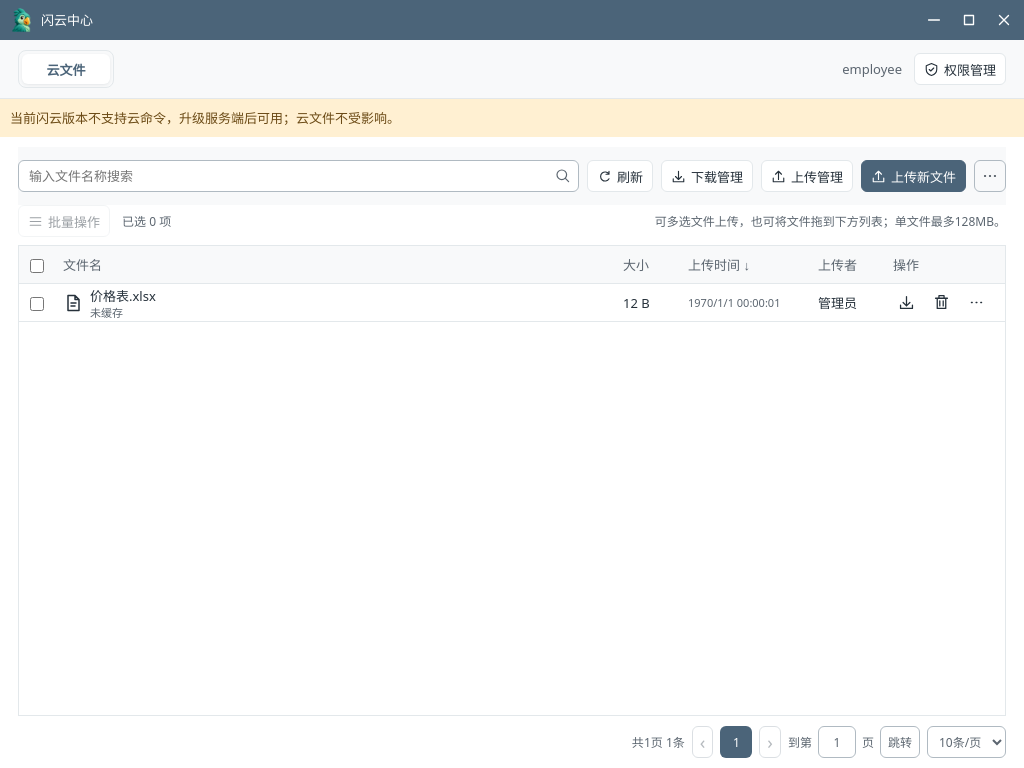
保存冲突读取最新授权，保留原草稿并提供采用最新
Expected: the text "价格表.xlsx" is shown, [90, 286, 156, 305]
Click the button "权限管理": (960,69) [914, 53, 1006, 85]
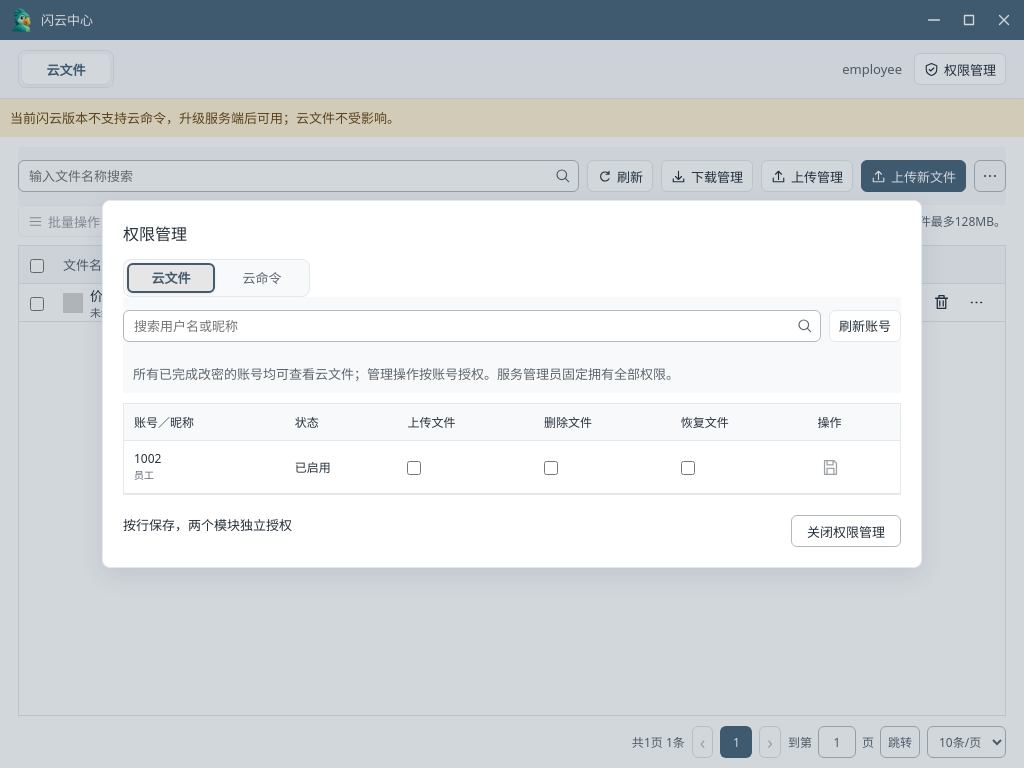
Click the checkbox named "1002的上传权限": (414,468) [407, 461, 421, 475]
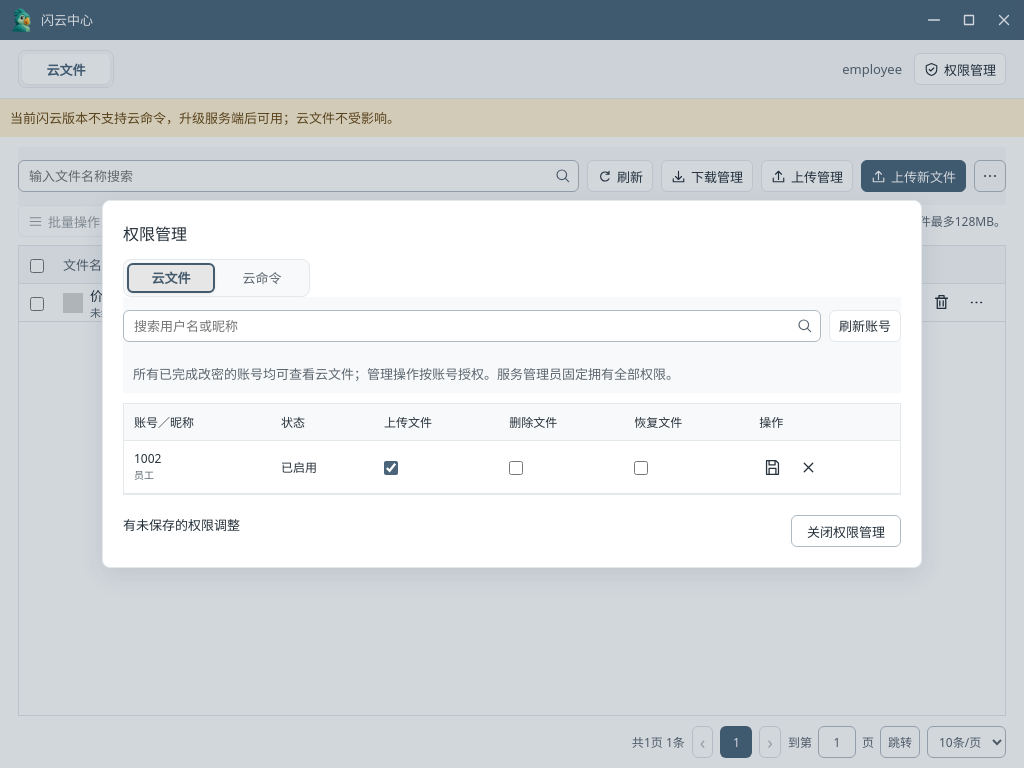
Click the button named "保存1002权限": (772,467) [759, 453, 785, 481]
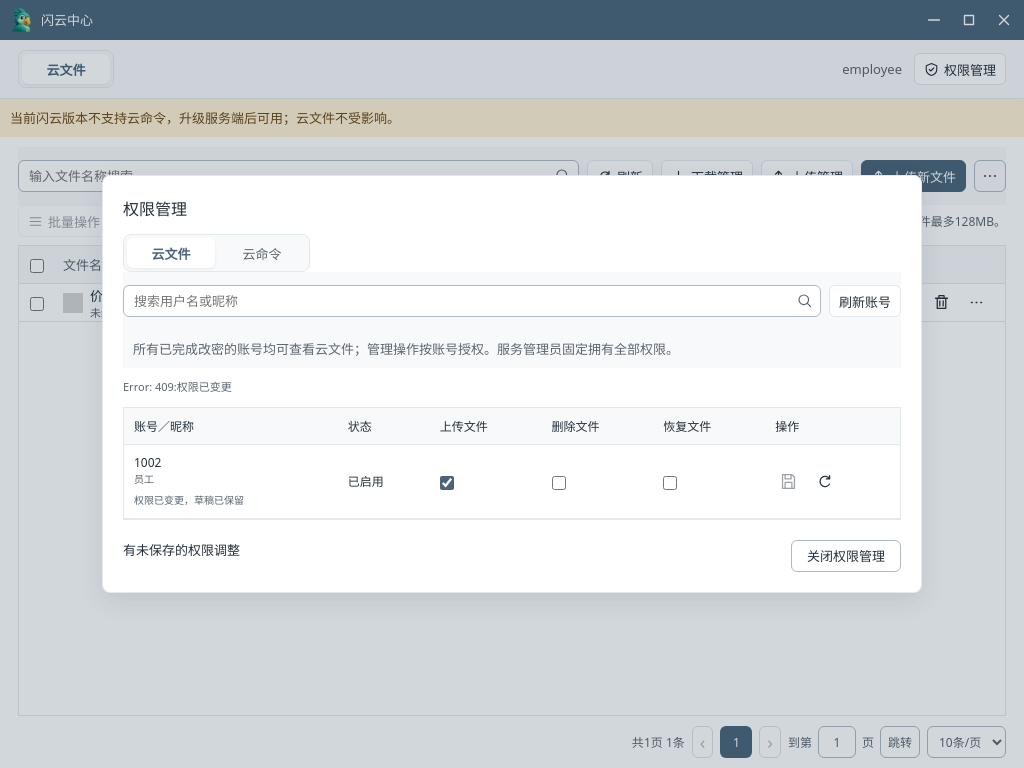
Expected: the checkbox named "1002的上传权限" is checked, [440, 476, 454, 490]
Expected: the text "权限已变更，草稿已保留" is shown, [134, 493, 244, 507]
Expected: the button named "保存1002权限" is disabled, [775, 467, 801, 495]
Click the button named "采用最新": (824,481) [811, 467, 837, 495]
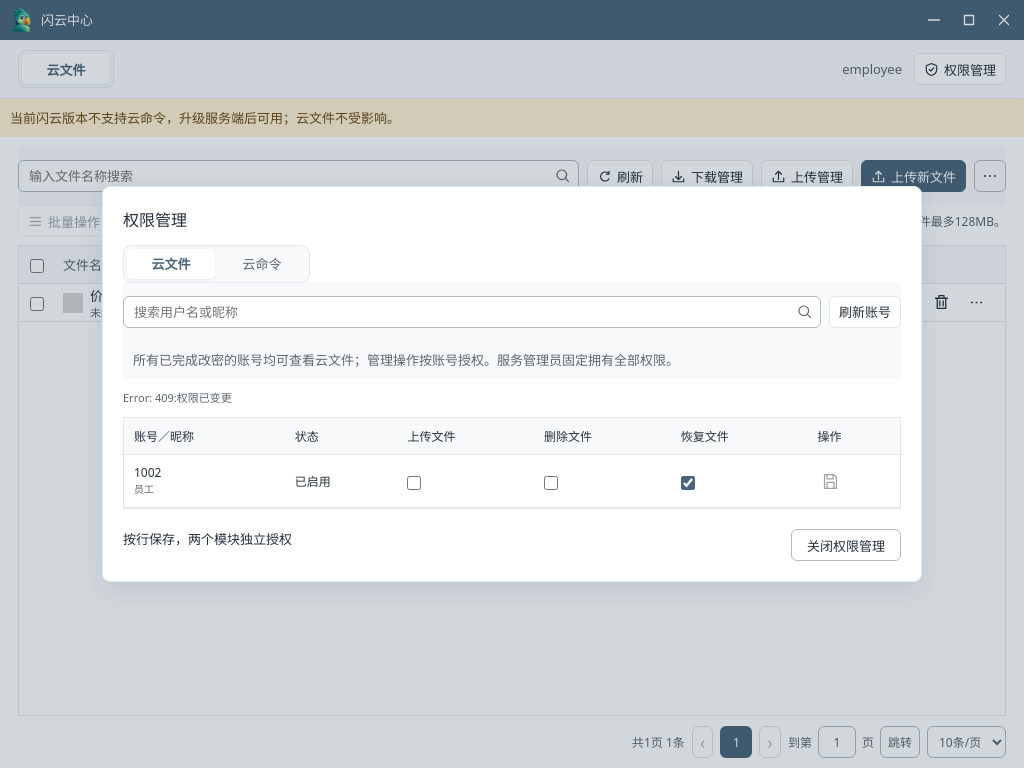
Expected: the checkbox named "1002的恢复权限" is checked, [681, 476, 695, 490]
